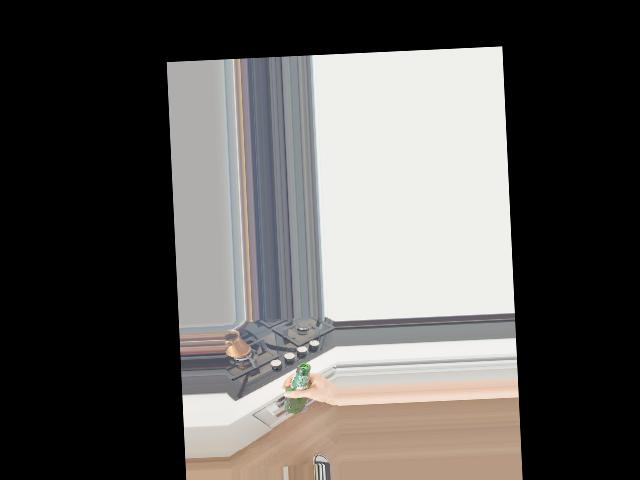beer: (283, 363, 313, 414)
